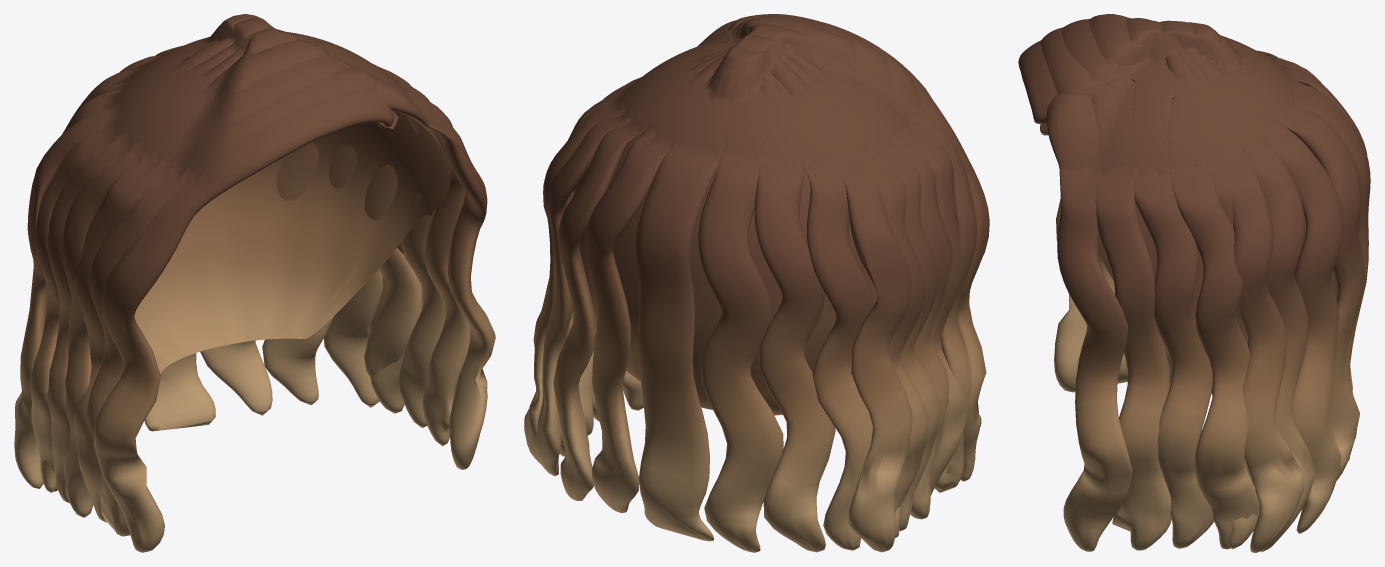
File: curls-pashmina-ombre.glb
The picture shows the model from 3 angles, left to right: view 1: azimuth 30°, elevation 25°; view 2: azimuth 150°, elevation 25°; view 3: azimuth 270°, elevation 25°; orthographic projection. The views are drawn at different scales.
Visible parts, largest first — view 1: 226 hair / Hair / sculpted 0.001, 226 hair / Hair / sculpted 1.002, 226 hair / Hair / sculpted 1.001, 226 hair / Hair / sculpted 2.001; view 2: 226 hair / Hair / sculpted 0.001, 226 hair / Hair / sculpted 2.001, 226 hair / Hair / sculpted 1.002, 226 hair / Hair / sculpted 1.001; view 3: 226 hair / Hair / sculpted 1.002, 226 hair / Hair / sculpted 2.001, 226 hair / Hair / sculpted 0.001, 226 hair / Hair / sculpted 1.001.
Boxes of the visible parts, left/top/right/bottom form: 226 hair / Hair / sculpted 0.001: left=14, top=14, right=445, bottom=552; 226 hair / Hair / sculpted 1.002: left=47, top=27, right=495, bottom=536; 226 hair / Hair / sculpted 1.001: left=134, top=46, right=450, bottom=373; 226 hair / Hair / sculpted 2.001: left=28, top=17, right=470, bottom=522; 226 hair / Hair / sculpted 0.001: left=553, top=16, right=989, bottom=552; 226 hair / Hair / sculpted 2.001: left=524, top=15, right=968, bottom=550; 226 hair / Hair / sculpted 1.002: left=533, top=14, right=977, bottom=552; 226 hair / Hair / sculpted 1.001: left=572, top=124, right=877, bottom=415; 226 hair / Hair / sculpted 1.002: left=1040, top=17, right=1364, bottom=551; 226 hair / Hair / sculpted 2.001: left=1061, top=19, right=1370, bottom=552; 226 hair / Hair / sculpted 0.001: left=1018, top=14, right=1367, bottom=548; 226 hair / Hair / sculpted 1.001: left=1098, top=75, right=1337, bottom=395.
Size of the model in its own units: 0.8965 by 0.9886 by 0.6957.
